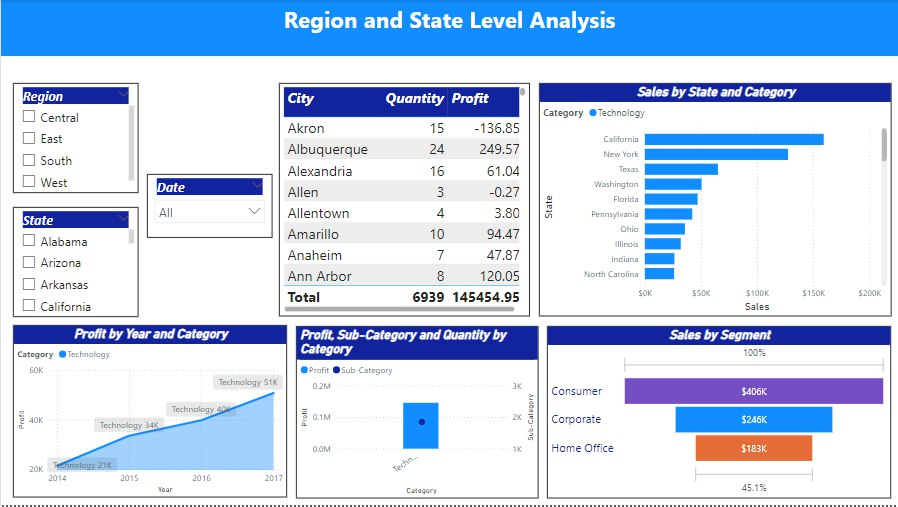

This screenshot's page, from the dashboard's own definition file:
{"tool":"powerbi","page":{"name":"Region & State","canvas":[1280,720],"ordinal":1},"visuals":[{"type":"textbox","box":[0,0,1280.3,80.3],"z":0},{"type":"slicer","fields":{"Values":["Table.Region"]},"box":[17.1,118.4,178.9,156.6],"z":1000},{"type":"slicer","fields":{"Values":["Table.State"]},"box":[17.1,294.7,178.9,156.6],"z":2000},{"type":"slicer","fields":{"Values":["Table.Year"]},"box":[207.9,248.7,178.9,90.8],"z":3000},{"type":"tableEx","fields":{"Values":["Table.City","Sum(Table.Quantity)","Sum(Table.Profit)"]},"box":[396.1,118.4,357.9,332.9],"z":4000},{"type":"clusteredBarChart","fields":{"Series":["Table.Category"],"Category":["Table.State"],"Y":["Sum(Table.Sales)"]},"box":[767.1,118.4,502.6,332.9],"z":5000},{"type":"areaChart","title":"Profit by Year and Category","fields":{"Series":["Table.Category"],"Y":["Sum(Table.Profit)"],"Category":["Table.Year.Variation.Datumshierarchie.Jahr","Table.Year.Variation.Datumshierarchie.Quartal","Table.Year.Variation.Datumshierarchie.Monat","Table.Year.Variation.Datumshierarchie.Tag"]},"box":[17.1,463.2,390.8,246.1],"z":6000},{"type":"lineClusteredColumnComboChart","fields":{"Category":["Table.Category"],"Y2":["CountNonNull(Table.Sub-Category)"],"Y":["Sum(Table.Profit)"]},"box":[421.1,464.5,346.1,246.1],"z":7000},{"type":"funnel","fields":{"Category":["Table.Segment"],"Y":["Sum(Table.Sales)"]},"box":[779,464.5,490.8,246.1],"z":8000}]}

Visuals, with their boxes in screenshot pixels (x1, y1, x2, y2), scaled from the page's 1280x720 canvas onto the 898x507 screenshot:
textbox: (left=0, top=0, right=897, bottom=57)
slicer - Table.Region: (left=12, top=83, right=138, bottom=194)
slicer - Table.State: (left=12, top=208, right=138, bottom=318)
slicer - Table.Year: (left=146, top=175, right=271, bottom=239)
tableEx - Table.City x Sum(Table.Quantity): (left=278, top=83, right=529, bottom=318)
clusteredBarChart - Table.Category x Table.State: (left=538, top=83, right=891, bottom=318)
"Profit by Year and Category" areaChart: (left=12, top=326, right=286, bottom=499)
lineClusteredColumnComboChart - Table.Category x CountNonNull(Table.Sub-Category): (left=295, top=327, right=538, bottom=500)
funnel - Table.Segment x Sum(Table.Sales): (left=547, top=327, right=891, bottom=500)
